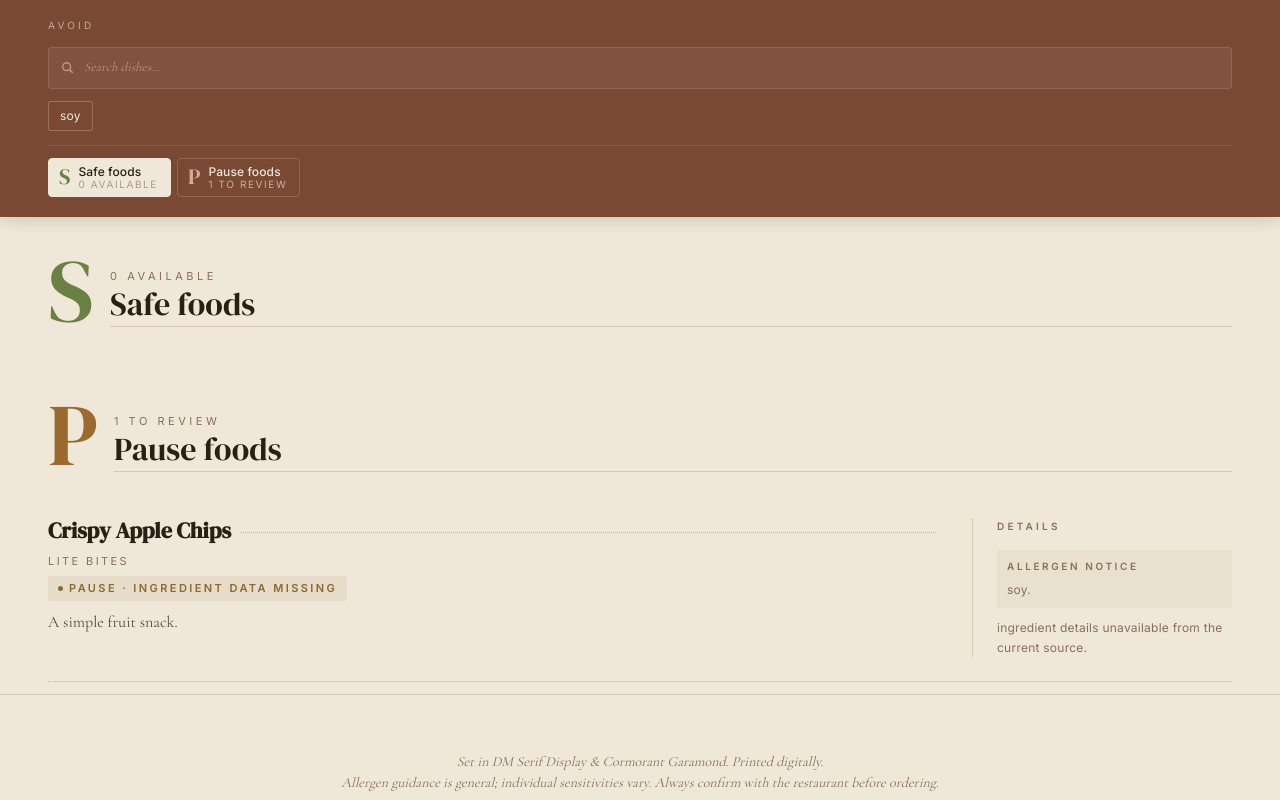
Test case: menu browser › moves flagged missing-detail items into skip foods when exclusions match
The image size is (1280, 800).
Step 1. Click the button "soy" → coordinates (70, 116), box [48,100,93,130]
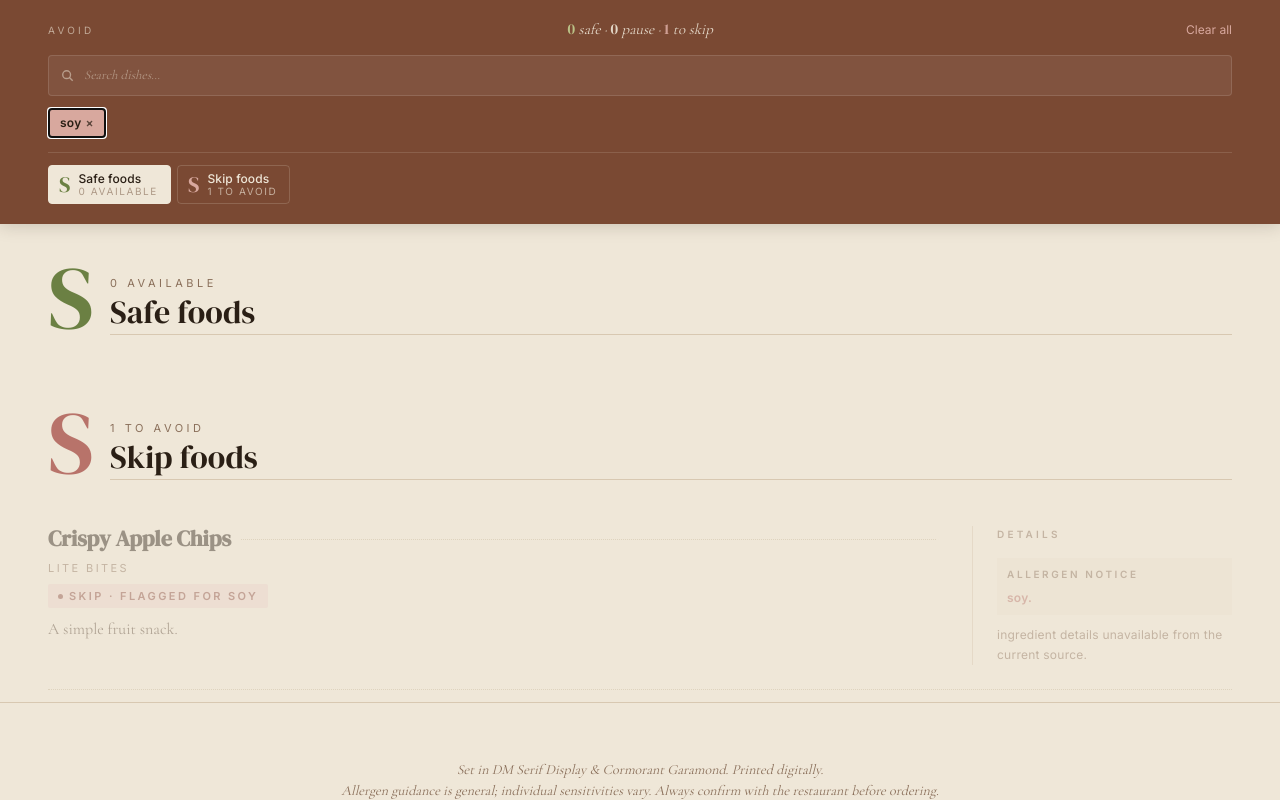
expect the button "Pause foods" is gone: met
expect the button "S Skip foods 1 to avoid" is shown: met, box [177,165,290,204]
expect the text "Skip · flagged for soy" is shown: met, box [48,584,268,608]
